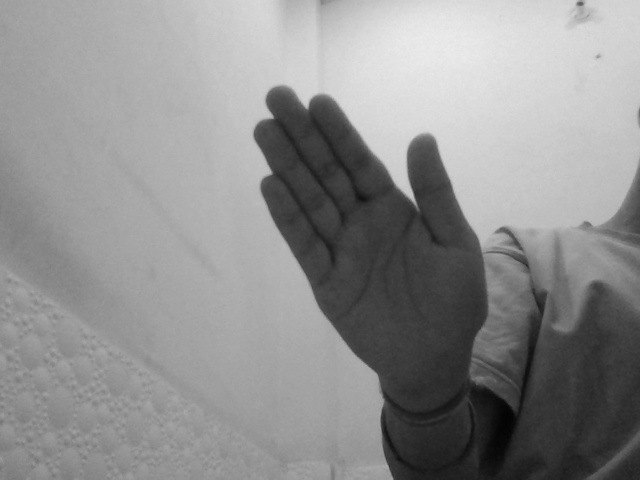Hello: (251, 81, 491, 387)
